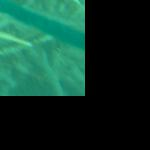dead: (1, 1, 83, 95)
